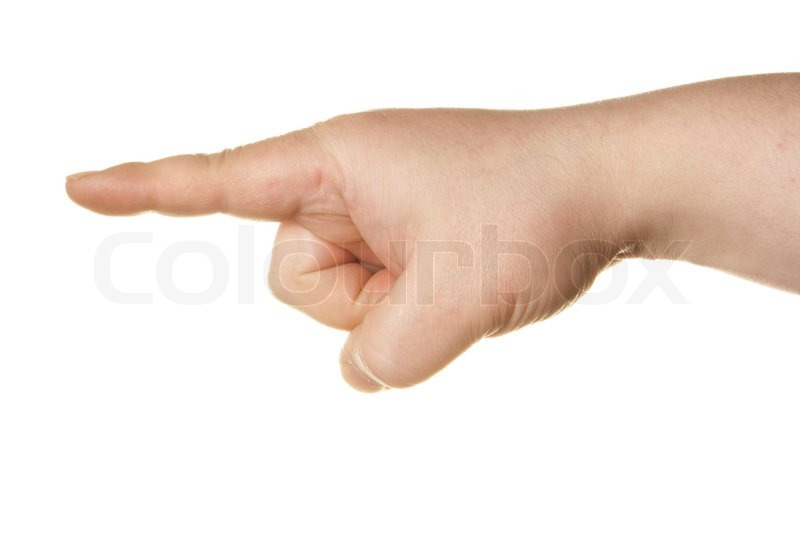finger: (50, 121, 325, 224), (275, 220, 415, 328)
